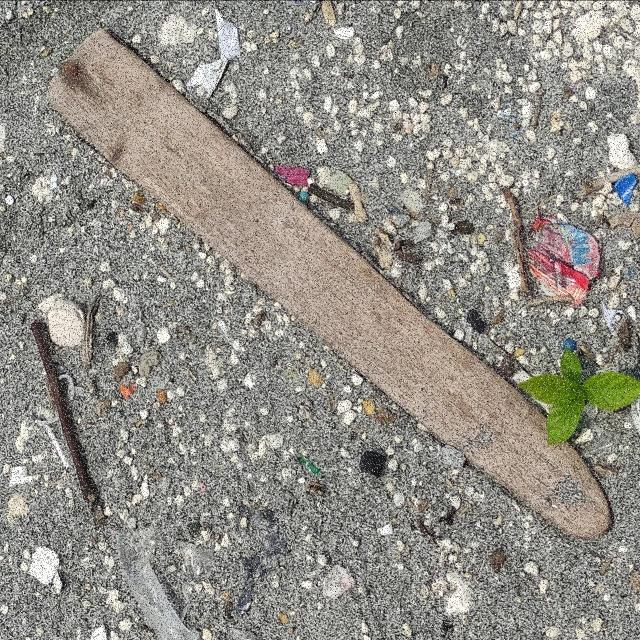plastic_waste: (527, 211, 600, 308)
wood_waste: (48, 28, 616, 539)
